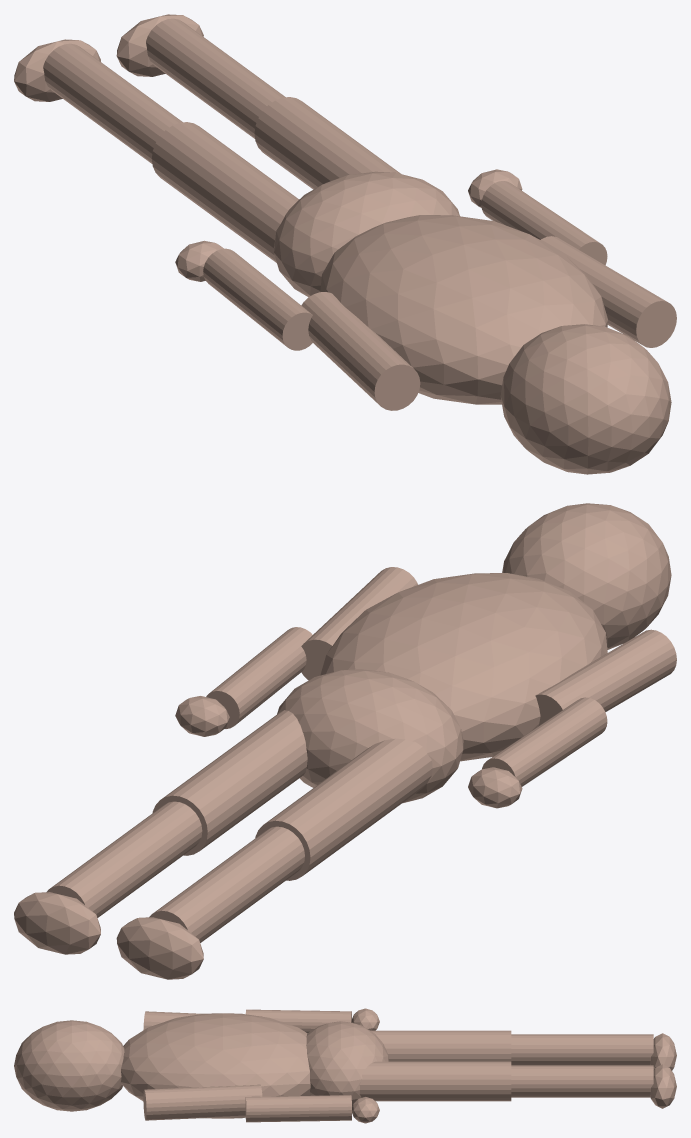
The model's file is body-g3-high.glb.
3 views of the same model, one above another, from view 1: azimuth 30°, elevation 25°; view 2: azimuth 150°, elevation 25°; view 3: azimuth 270°, elevation 25° (orthographic). The views are drawn at different scales.
Parts seen in each view (by area): view 1: torso, head, pelvis, left_thigh, left_lower_leg, right_lower_leg, right_thigh, left_upper_arm, left_forearm, right_upper_arm, right_forearm, left_foot (+3 smaller); view 2: torso, head, pelvis, left_thigh, right_thigh, right_lower_leg, left_lower_leg, left_upper_arm, left_forearm, right_forearm, left_foot, right_foot (+3 smaller); view 3: torso, head, right_thigh, right_lower_leg, pelvis, left_lower_leg, left_thigh, right_upper_arm, right_forearm, left_forearm, right_foot, left_foot (+3 smaller).
Part boxes in pixels (left/top/right/bottom): torso: left=320, top=215, right=607, bottom=404; head: left=500, top=324, right=671, bottom=474; pelvis: left=274, top=171, right=459, bottom=297; left_thigh: left=151, top=122, right=298, bottom=262; left_lower_leg: left=43, top=43, right=182, bottom=163; right_lower_leg: left=146, top=18, right=285, bottom=138; right_thigh: left=254, top=97, right=400, bottom=189; left_upper_arm: left=301, top=292, right=420, bottom=410; left_forearm: left=203, top=248, right=312, bottom=350; right_upper_arm: left=540, top=236, right=676, bottom=347; right_forearm: left=481, top=181, right=607, bottom=265; left_foot: left=14, top=39, right=100, bottom=101; torso: left=320, top=573, right=607, bottom=761; head: left=502, top=503, right=671, bottom=649; pelvis: left=277, top=669, right=463, bottom=803; left_thigh: left=255, top=738, right=432, bottom=880; right_thigh: left=152, top=710, right=307, bottom=855; right_lower_leg: left=46, top=801, right=202, bottom=917; left_lower_leg: left=149, top=826, right=304, bottom=942; left_upper_arm: left=535, top=629, right=676, bottom=726; left_forearm: left=482, top=697, right=607, bottom=786; right_forearm: left=206, top=627, right=312, bottom=728; left_foot: left=116, top=917, right=203, bottom=979; right_foot: left=14, top=892, right=100, bottom=954; torso: left=121, top=1013, right=310, bottom=1118; head: left=14, top=1020, right=124, bottom=1111; right_thigh: left=359, top=1061, right=511, bottom=1101; right_lower_leg: left=511, top=1065, right=653, bottom=1097; pelvis: left=306, top=1021, right=388, bottom=1106; left_lower_leg: left=511, top=1034, right=653, bottom=1065; left_thigh: left=370, top=1030, right=511, bottom=1061; right_upper_arm: left=143, top=1084, right=262, bottom=1120; right_forearm: left=245, top=1095, right=351, bottom=1122; left_forearm: left=245, top=1009, right=351, bottom=1033; right_foot: left=650, top=1064, right=676, bottom=1108; left_foot: left=650, top=1033, right=676, bottom=1070.
Bounding box in the file's own units: 2.2 × 0.8 × 5.96.
